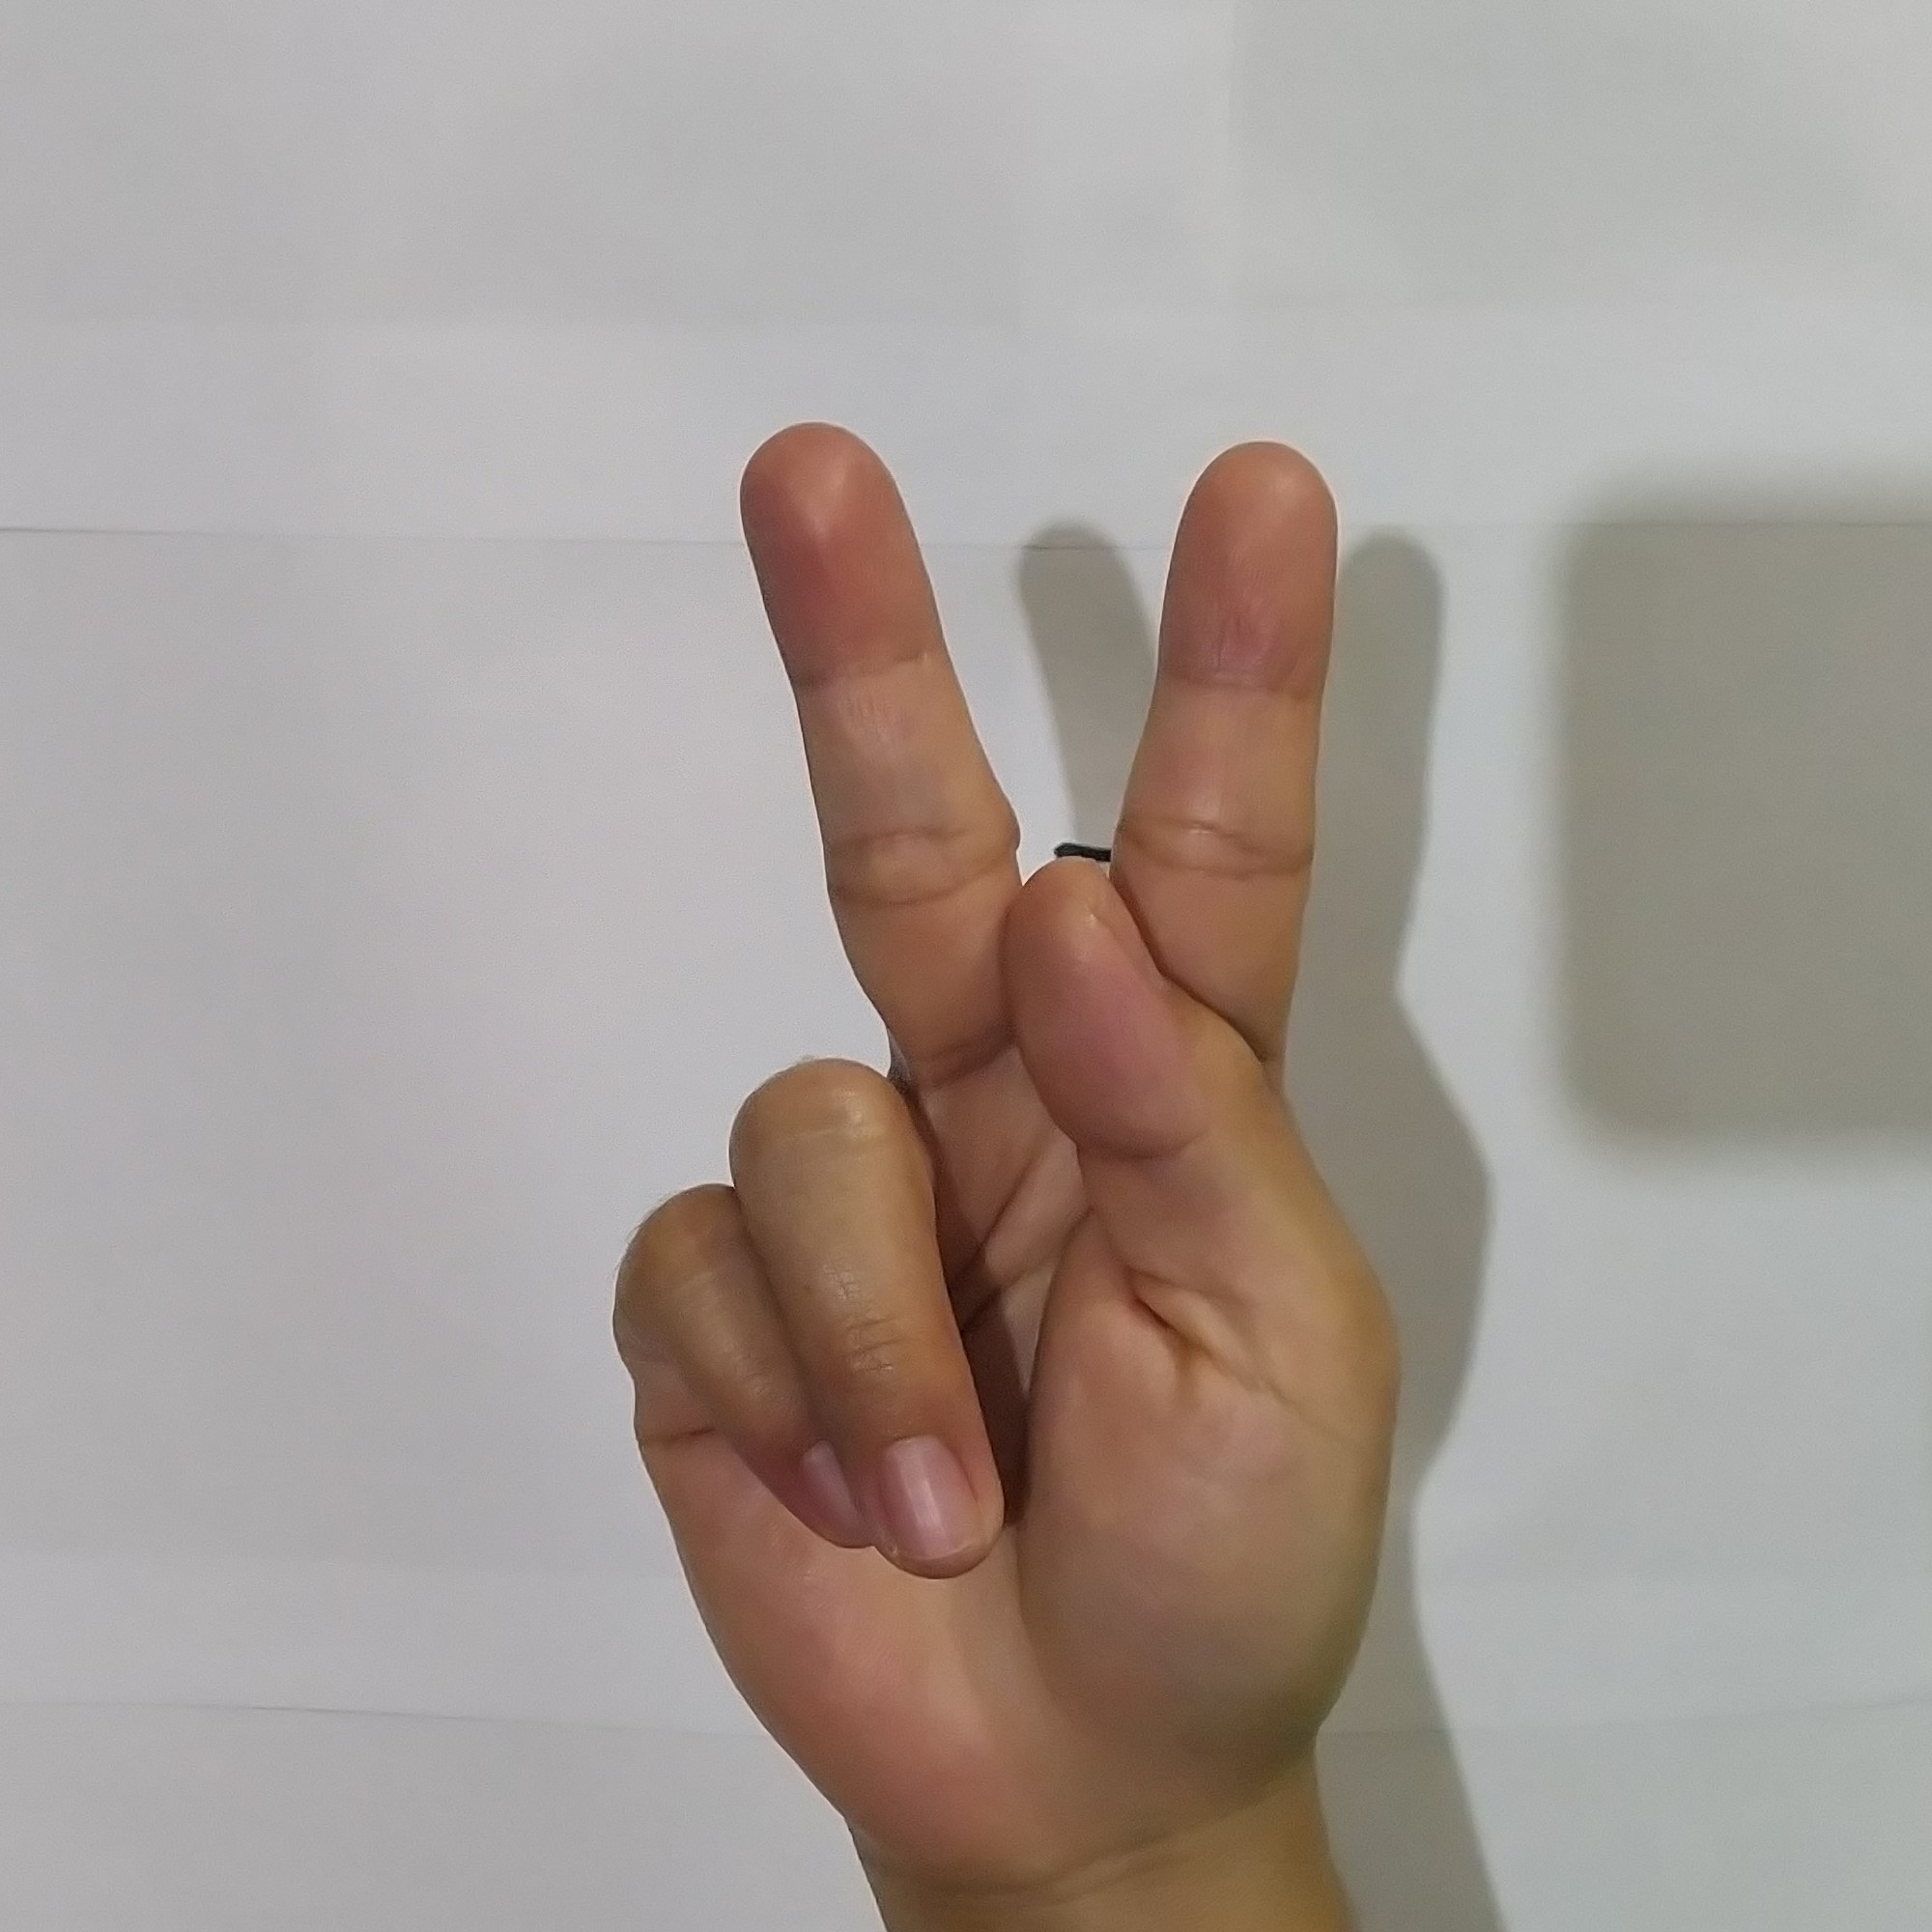K: (577, 398, 1437, 1769)
